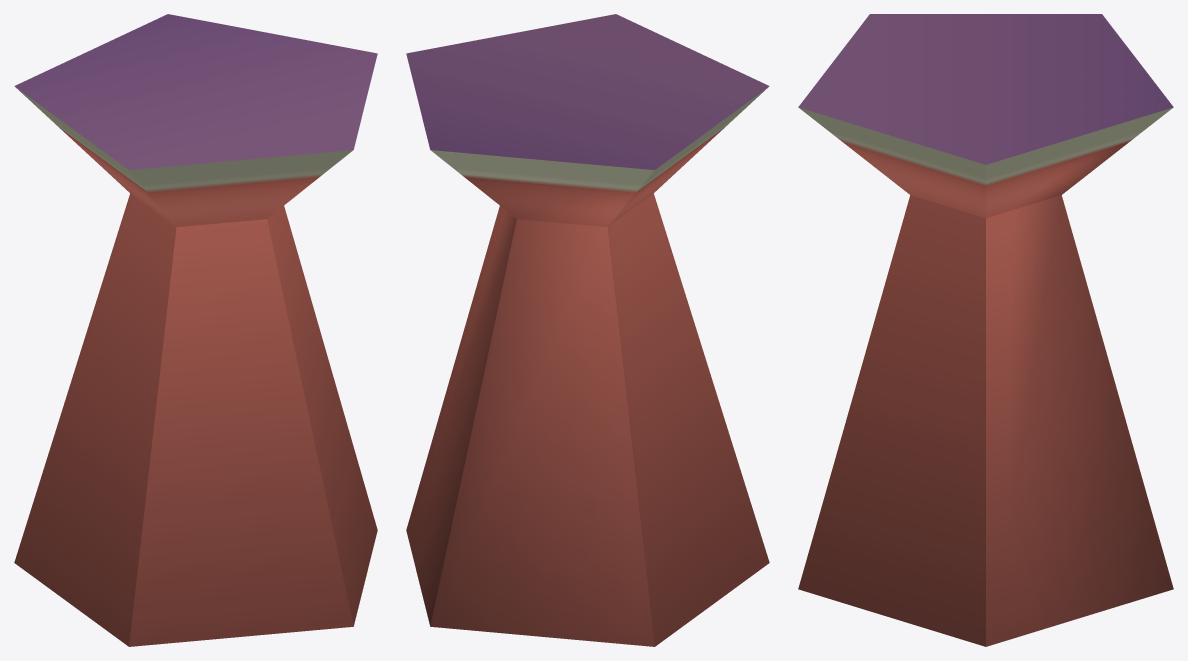
3 renders of one model, left to right at view 1: azimuth 30°, elevation 25°; view 2: azimuth 150°, elevation 25°; view 3: azimuth 270°, elevation 25°, orthographic.
Parts seen in each view (by area): view 1: Cylinder01; view 2: Cylinder01; view 3: Cylinder01.
Boxes of the visible parts, left/top/right/bottom form: Cylinder01: left=14, top=14, right=377, bottom=646; Cylinder01: left=406, top=14, right=769, bottom=646; Cylinder01: left=798, top=14, right=1173, bottom=646.
Size of the model in its own units: 77.31 by 115 by 81.29.
Materials: 1 (1 with a texture image).
